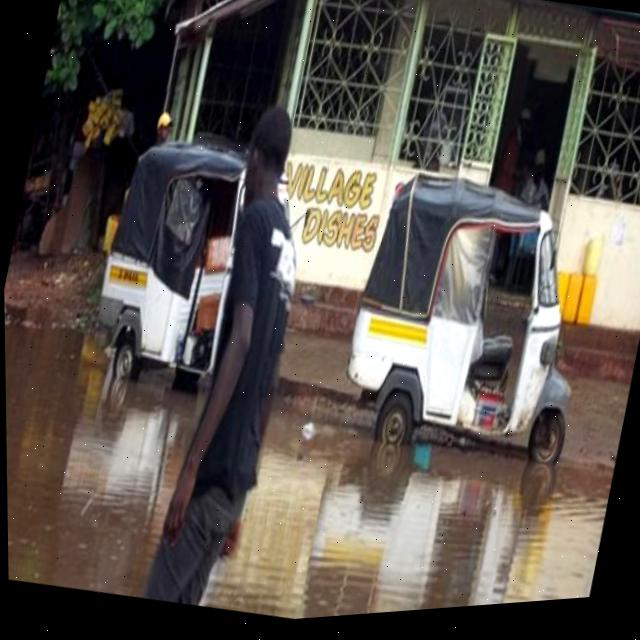civilian: (117, 76, 367, 624), (461, 98, 548, 294), (501, 124, 579, 304), (145, 99, 179, 155)
